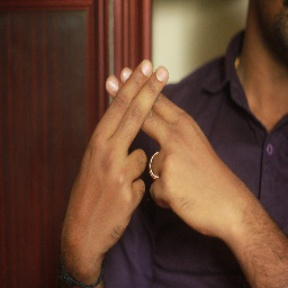F: (73, 54, 210, 197)
